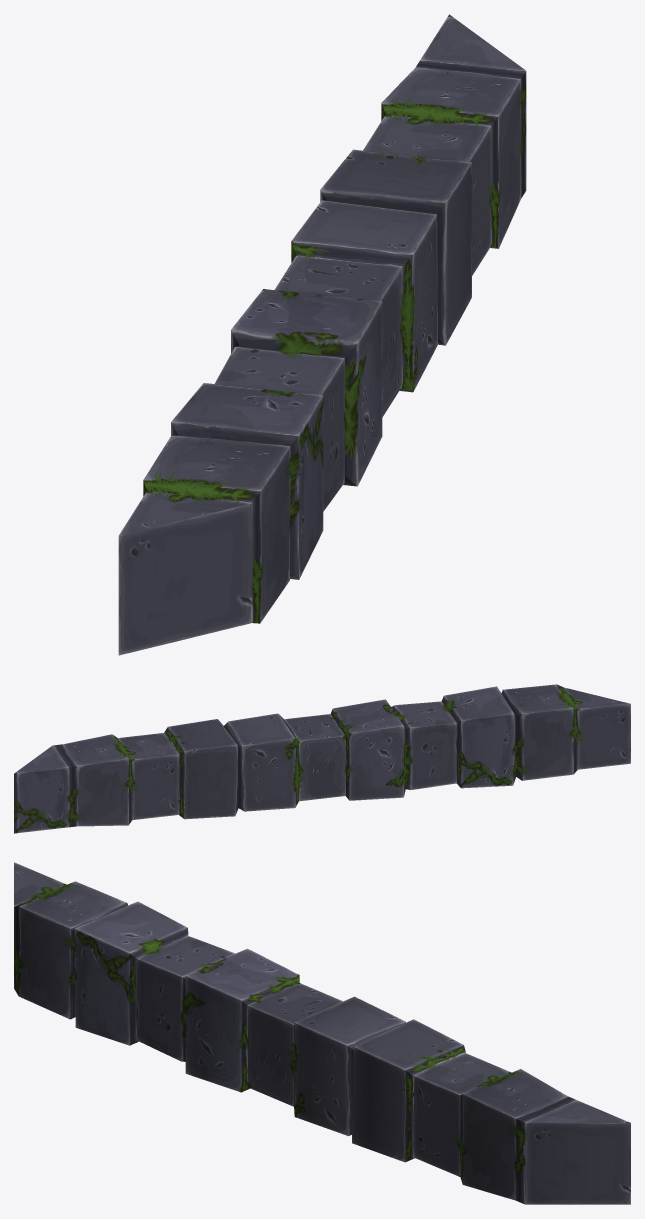
The model's file is MOD_WallCover_01_E_angle_1.fbx.
The picture shows the model from 3 angles, top to bottom: view 1: azimuth 30°, elevation 25°; view 2: azimuth 150°, elevation 25°; view 3: azimuth 270°, elevation 25°; orthographic projection. The views are drawn at different scales.
Visible parts, largest first — view 1: MOD_WallCover_01_E_angle_1; view 2: MOD_WallCover_01_E_angle_1; view 3: MOD_WallCover_01_E_angle_1.
Part boxes in pixels (left/top/right/bottom): MOD_WallCover_01_E_angle_1: left=118, top=14, right=526, bottom=655; MOD_WallCover_01_E_angle_1: left=14, top=684, right=630, bottom=833; MOD_WallCover_01_E_angle_1: left=14, top=862, right=630, bottom=1204.
Bounding box in the file's own units: 410 × 72.51 × 410.
